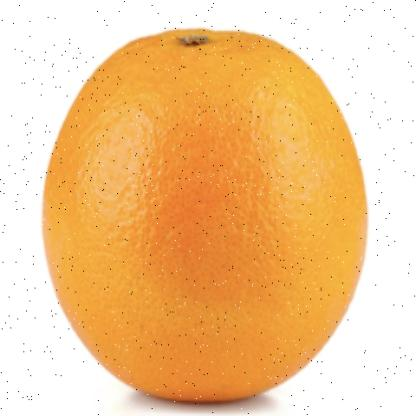fresh: (45, 26, 369, 406)
